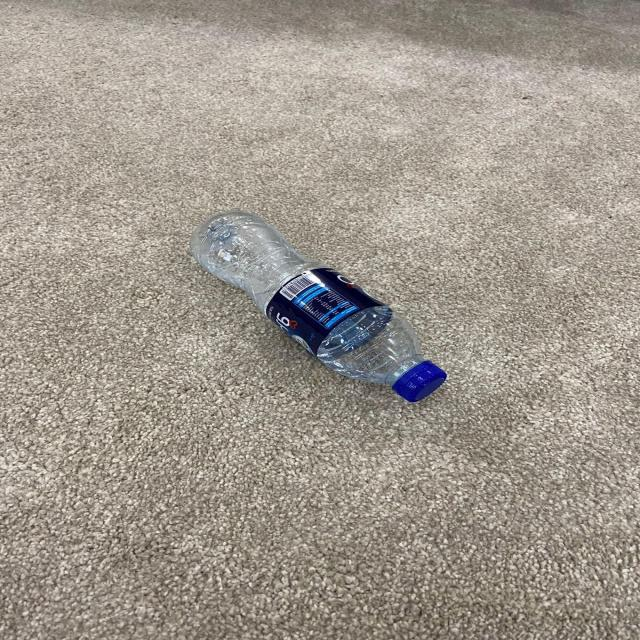bottle: (180, 199, 482, 432)
